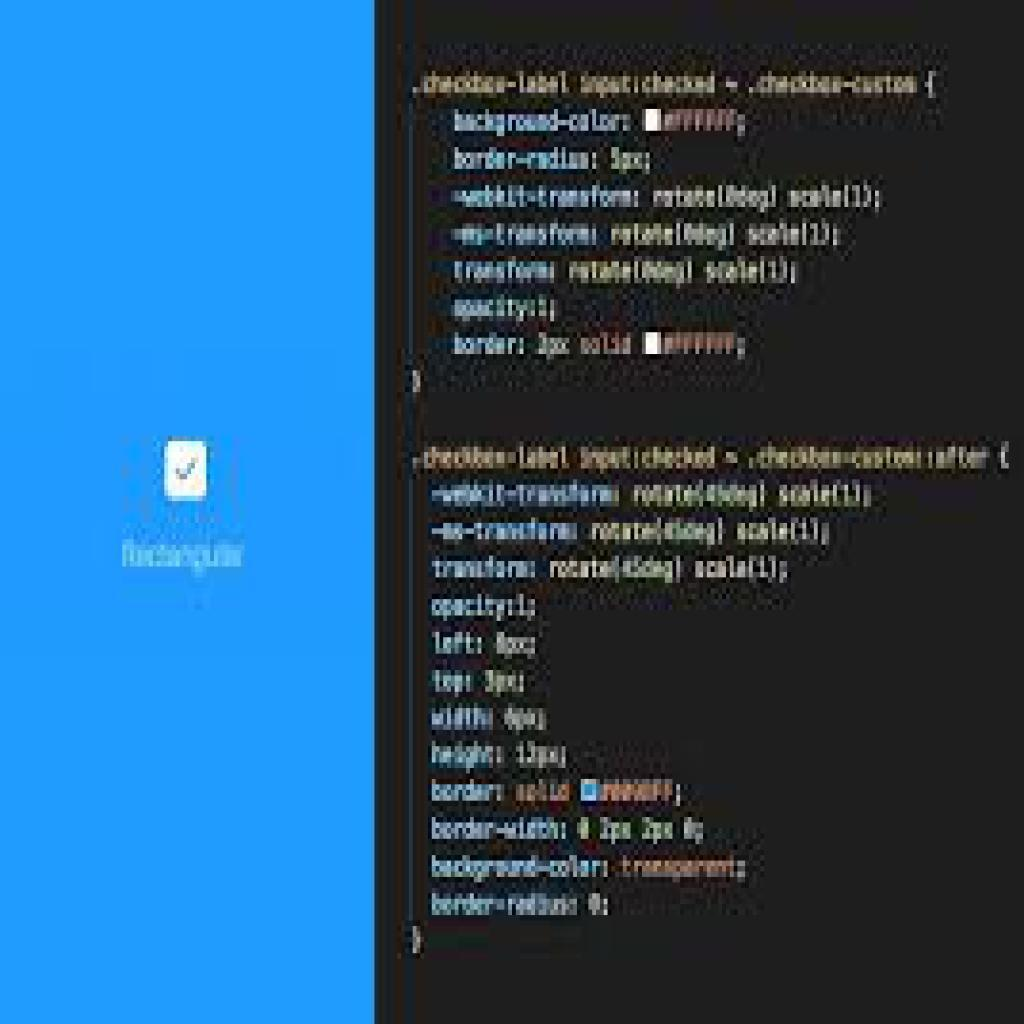checkbox: (164, 440, 211, 507)
